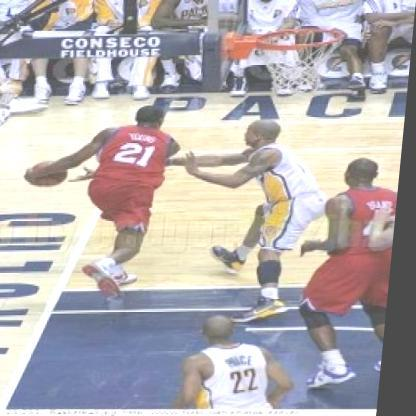basketball: (26, 156, 77, 192)
rim: (256, 23, 348, 86)
